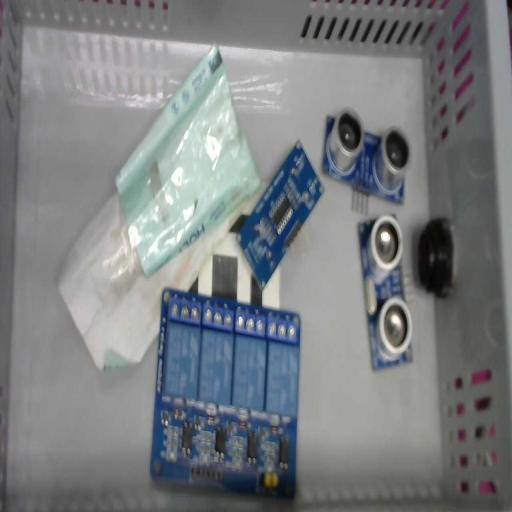relay_module: (150, 288, 301, 500)
triple_syringe: (57, 45, 261, 371)
ultrasonic_hc-sr04: (322, 106, 410, 214), (358, 215, 415, 371)
